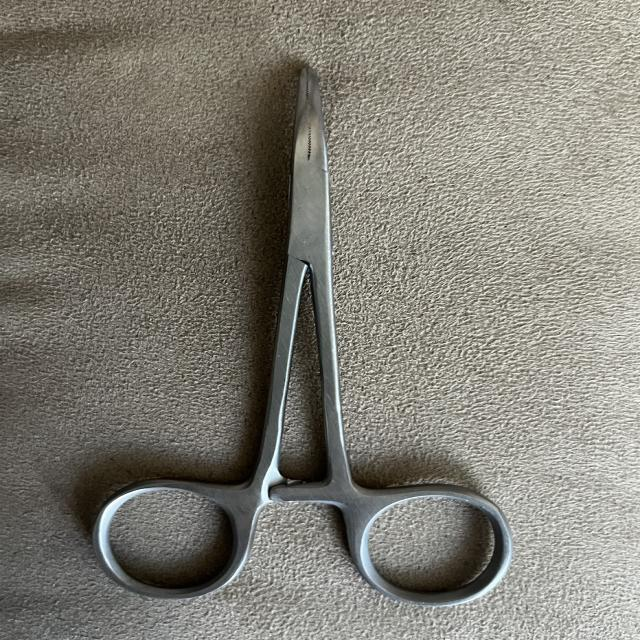Gunting: (81, 56, 524, 620)
